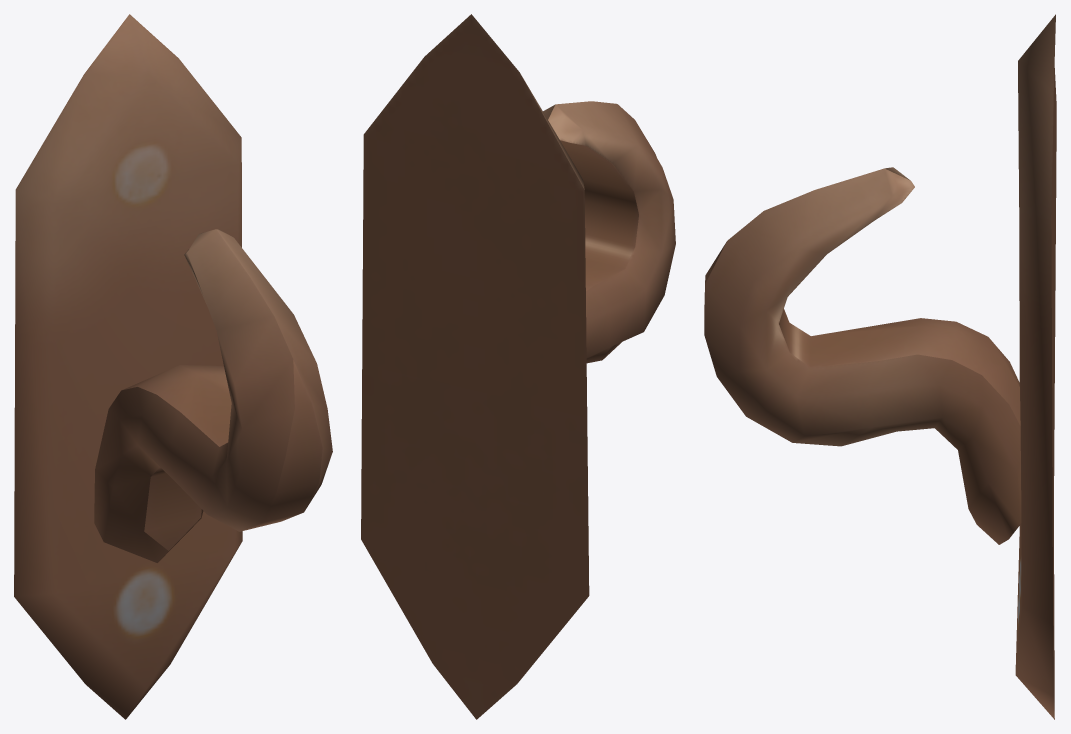
The model's file is SM_Potion_Props_Hook_01.fbx.
3 views of the same model, side by side, from view 1: azimuth 30°, elevation 25°; view 2: azimuth 150°, elevation 25°; view 3: azimuth 270°, elevation 25° (orthographic).
Visible parts, largest first — view 1: SM_Potion_Props_Hook_01_LOD0; view 2: SM_Potion_Props_Hook_01_LOD0; view 3: SM_Potion_Props_Hook_01_LOD0.
Part boxes in pixels (box(x1,y1,x2,y2)): SM_Potion_Props_Hook_01_LOD0: box(14, 14, 332, 719); SM_Potion_Props_Hook_01_LOD0: box(361, 14, 675, 719); SM_Potion_Props_Hook_01_LOD0: box(704, 14, 1056, 719).
Size of what is drawn, in the model's own units: 9.3 by 27.42 by 12.38.
